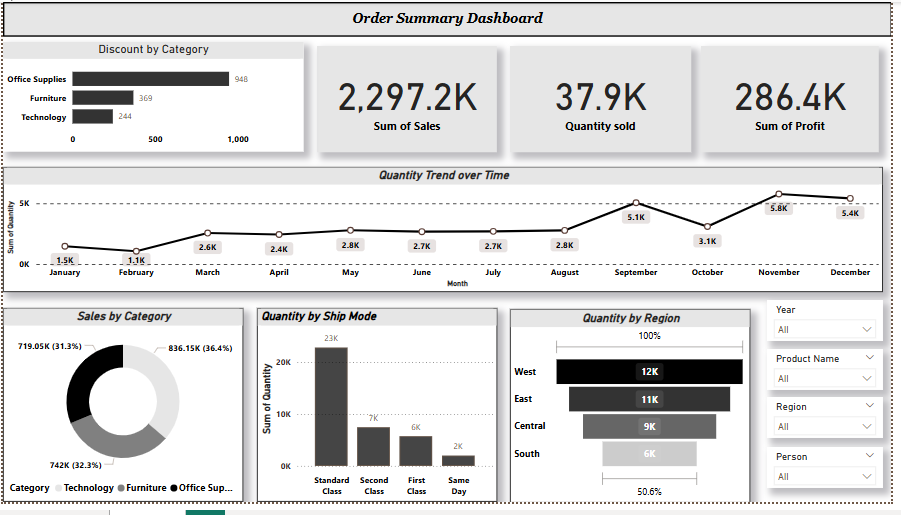

What the dashboard file says about the page in this screenshot:
{"tool":"powerbi","page":{"name":"Page 1","canvas":[1280,720],"ordinal":0},"visuals":[{"type":"donutChart","title":"Sales by Category","fields":{"Category":["Order.Category"],"Y":["Sum(Order.Sales)"]},"box":[0,440.6,345.6,279.4],"z":0},{"type":"columnChart","title":"Quantity by Ship Mode","fields":{"Category":["Order.Ship Mode"],"Y":["Sum(Order.Quantity)"]},"box":[365.8,440.6,345.6,279.4],"z":1000},{"type":"funnel","title":"Quantity by Region","fields":{"Category":["Order.Region"],"Y":["Sum(Order.Quantity)"]},"box":[730.7,441.8,346,278.8],"z":2000},{"type":"lineChart","title":"Quantity Trend over Time","fields":{"Category":["Order.Order Date.Variation.Date Hierarchy.Month"],"Y":["Sum(Order.Quantity)"]},"box":[0,237.6,1267.2,180],"z":3000},{"type":"card","fields":{"Values":["Sum(Order.Sales)"]},"box":[452.2,63.4,259.2,152.6],"z":4000},{"type":"textbox","box":[0,0,1280.2,50.4],"z":5000},{"type":"card","fields":{"Values":["Sum(Order.Quantity)"]},"box":[730.1,63.4,260.6,152.6],"z":6000},{"type":"card","fields":{"Values":["Sum(Order.Profit)"]},"box":[1005.1,63.4,256.3,152.6],"z":7000},{"type":"slicer","fields":{"Values":["Order.Order Date.Variation.Date Hierarchy.Year"]},"box":[1100.2,429.1,167,59],"z":8000},{"type":"slicer","fields":{"Values":["Order.Product Name"]},"box":[1100.2,499.7,167,59],"z":9000},{"type":"slicer","fields":{"Values":["People.Region"]},"box":[1100.2,568.8,167,59],"z":10000},{"type":"slicer","fields":{"Values":["People.Person"]},"box":[1100.2,640.8,167,59],"z":11000},{"type":"barChart","fields":{"Y":["Sum(Order.Discount)"],"Category":["Order.Category"]},"box":[0,57.6,433.4,158.4],"z":12000}]}

Visuals, with their boxes in screenshot pixels (x1, y1, x2, y2), scaled from the page's 1280x720 canvas onto the 901x515 screenshot:
"Sales by Category" donutChart: 0/315/243/514
"Quantity by Ship Mode" columnChart: 257/315/501/514
"Quantity by Region" funnel: 514/316/758/514
"Quantity Trend over Time" lineChart: 0/170/892/299
card - Sum(Order.Sales): 318/45/501/154
textbox: 0/0/900/36
card - Sum(Order.Quantity): 514/45/697/154
card - Sum(Order.Profit): 707/45/888/154
slicer - Order.Order Date.Variation.Date Hierarchy.Year: 774/307/892/349
slicer - Order.Product Name: 774/357/892/400
slicer - People.Region: 774/407/892/449
slicer - People.Person: 774/458/892/501
barChart - Sum(Order.Discount) x Order.Category: 0/41/305/154
